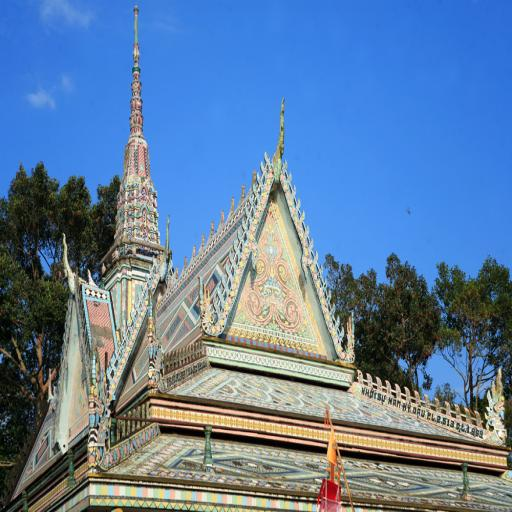lua: (270, 94, 289, 190), (58, 228, 80, 298), (157, 210, 176, 266), (44, 362, 62, 410), (420, 389, 431, 416), (452, 399, 463, 425), (210, 294, 222, 317), (261, 147, 273, 170), (470, 407, 482, 430), (103, 366, 115, 387), (204, 220, 216, 241), (215, 284, 224, 312), (220, 272, 229, 300), (364, 367, 374, 392), (401, 384, 412, 406), (216, 207, 226, 231), (236, 180, 246, 204), (247, 193, 257, 217), (392, 380, 402, 404), (432, 395, 442, 419), (253, 171, 264, 192), (374, 371, 384, 394), (412, 385, 422, 408), (243, 204, 254, 224), (326, 298, 336, 320), (382, 376, 392, 398), (248, 166, 257, 190), (128, 306, 138, 327), (462, 404, 472, 425), (301, 218, 310, 241), (442, 397, 451, 420), (142, 273, 152, 293), (228, 248, 236, 273), (336, 323, 346, 343), (232, 240, 241, 262), (305, 232, 314, 254), (224, 262, 232, 286), (241, 216, 249, 240), (289, 180, 297, 204), (331, 311, 341, 330), (292, 192, 301, 213), (315, 259, 324, 280), (116, 336, 126, 354), (172, 264, 182, 282), (197, 232, 206, 252), (310, 246, 320, 264), (322, 288, 332, 306), (356, 366, 365, 386), (260, 160, 268, 182), (280, 154, 288, 176), (297, 203, 305, 225), (132, 299, 141, 318), (236, 228, 245, 247), (318, 273, 327, 292), (113, 345, 122, 363), (121, 326, 130, 344), (124, 318, 133, 336), (252, 182, 259, 205), (136, 287, 144, 307), (164, 272, 172, 292), (180, 253, 188, 273), (228, 195, 236, 214), (140, 280, 148, 298), (146, 260, 155, 276), (285, 170, 293, 188), (190, 240, 196, 263), (110, 358, 117, 375), (168, 270, 176, 284), (166, 257, 173, 271), (152, 253, 158, 268)
ran: (78, 330, 122, 478), (140, 290, 170, 394), (477, 366, 512, 446), (189, 273, 221, 339), (342, 304, 362, 364)
